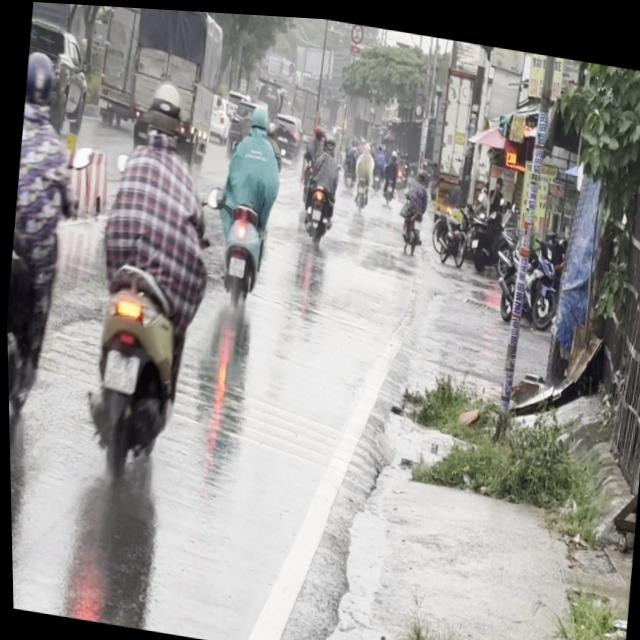helmet: (140, 74, 183, 141), (22, 45, 56, 112), (246, 96, 268, 130)
licenseplate: (67, 64, 227, 492), (1, 40, 91, 463), (203, 90, 288, 326)
nohelmet: (98, 346, 137, 390), (225, 250, 244, 272)
